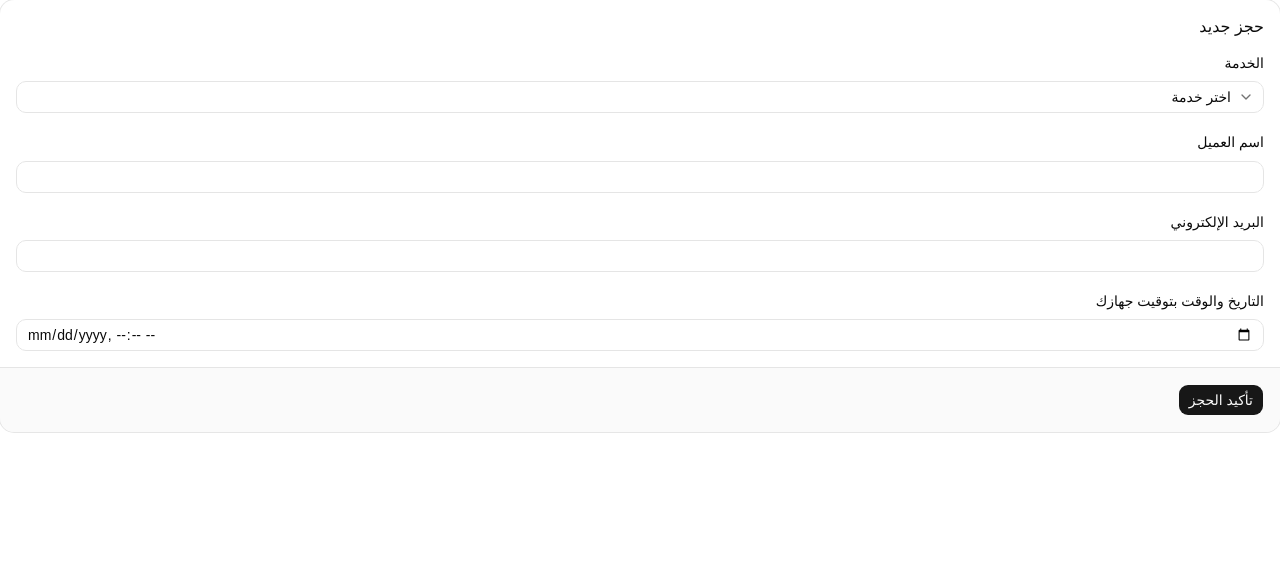
Scenario: BookingForm › shows validation messages and does not submit when empty
Click the button "تأكيد الحجز" at (1221, 400), box [1178,384,1264,416]
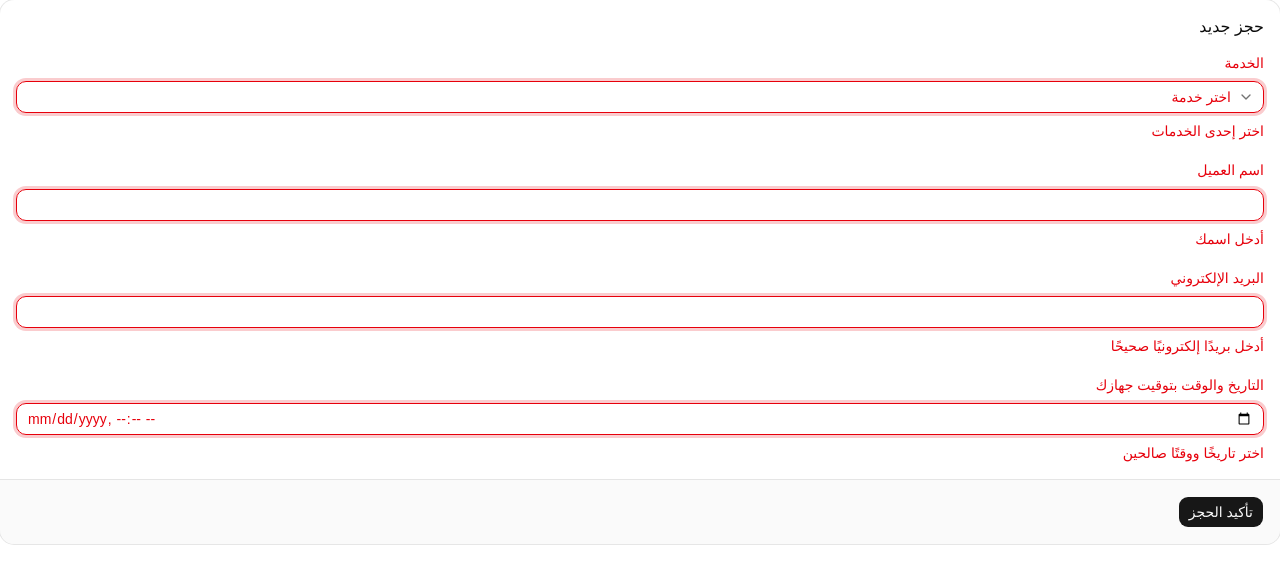
Result: the text "أدخل اسمك" is shown at [1195,230,1264,246]
Result: the text "أدخل بريدًا إلكترونيًا صحيحًا" is shown at [1111,338,1264,354]
Result: the text "اختر إحدى الخدمات" is shown at [1151,123,1264,139]
